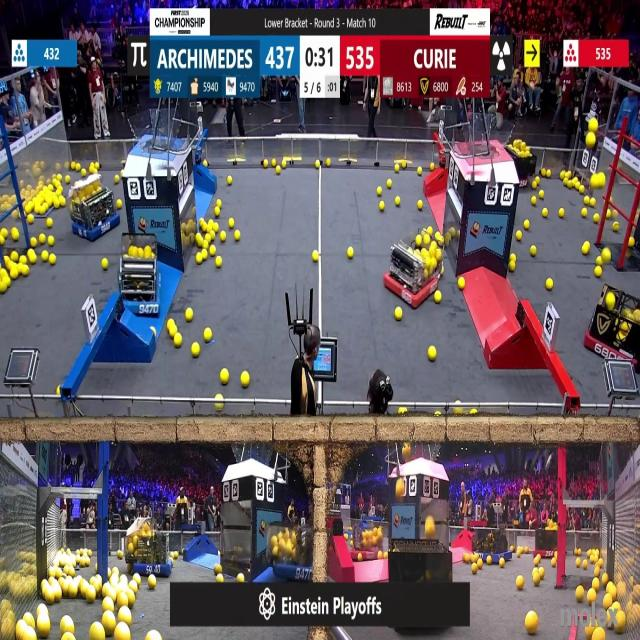ball_airborne: (396, 480, 404, 498), (596, 173, 605, 188), (605, 293, 614, 308), (401, 446, 410, 460), (588, 133, 596, 148), (590, 118, 598, 131)
ball_ground: (37, 618, 50, 640), (526, 614, 538, 636), (103, 614, 115, 634), (616, 615, 627, 635), (91, 625, 105, 640), (62, 618, 74, 634), (425, 519, 434, 537), (120, 611, 130, 626), (241, 373, 250, 388), (575, 588, 584, 603), (602, 248, 610, 264), (191, 343, 199, 358), (428, 346, 436, 361), (220, 370, 228, 385), (103, 599, 113, 611), (594, 630, 606, 640), (88, 590, 97, 603), (517, 575, 525, 589), (588, 590, 596, 604), (119, 629, 129, 640), (148, 575, 156, 588), (603, 596, 611, 609), (55, 590, 63, 603), (205, 328, 212, 342), (129, 593, 136, 607), (28, 252, 36, 264), (532, 573, 540, 585), (185, 309, 192, 322), (395, 308, 402, 321), (169, 325, 177, 336), (18, 252, 26, 263), (600, 573, 608, 584), (434, 290, 441, 302), (458, 278, 465, 290), (174, 336, 181, 348), (583, 243, 590, 255), (11, 230, 18, 242), (23, 266, 30, 278), (606, 584, 613, 596), (10, 251, 18, 261), (212, 221, 220, 231), (146, 632, 156, 640), (195, 234, 201, 247), (0, 280, 6, 293), (545, 279, 552, 290), (10, 269, 17, 280), (593, 577, 600, 588), (313, 250, 319, 262), (102, 260, 108, 272), (474, 563, 480, 575), (202, 220, 208, 232), (48, 254, 55, 264), (30, 238, 37, 248), (209, 246, 216, 256), (463, 554, 470, 564), (41, 251, 48, 261), (596, 255, 603, 265), (507, 264, 514, 274), (39, 236, 46, 246), (215, 564, 222, 574), (1, 229, 8, 239), (216, 256, 222, 267), (596, 267, 602, 278), (538, 567, 544, 578), (238, 573, 245, 582), (611, 222, 618, 231), (348, 248, 354, 258), (530, 246, 536, 256), (380, 202, 386, 212), (48, 236, 54, 246), (220, 232, 226, 242), (195, 253, 201, 263), (517, 232, 523, 242), (541, 208, 547, 218), (227, 218, 233, 228), (214, 207, 220, 217), (384, 182, 390, 192), (135, 574, 141, 584), (534, 556, 540, 566), (202, 250, 208, 260), (4, 254, 10, 264), (60, 198, 66, 208), (594, 566, 600, 576), (64, 634, 74, 640), (216, 574, 223, 582), (215, 393, 222, 401), (203, 240, 210, 248), (115, 201, 122, 209), (236, 231, 241, 242), (524, 220, 530, 229), (629, 239, 635, 248), (28, 214, 34, 223), (499, 559, 505, 568), (583, 208, 589, 217), (578, 184, 584, 193), (606, 210, 612, 219), (264, 161, 270, 170), (590, 199, 596, 208), (427, 225, 433, 234), (210, 233, 216, 242), (46, 218, 51, 228), (451, 229, 456, 239), (215, 402, 222, 409), (594, 214, 600, 222), (226, 176, 232, 184), (531, 198, 537, 206), (538, 190, 544, 198), (276, 167, 282, 175), (315, 162, 321, 170), (357, 554, 363, 562), (532, 181, 538, 189), (130, 584, 136, 592), (430, 164, 436, 172), (326, 160, 332, 168), (560, 171, 566, 179), (0, 269, 6, 277), (400, 162, 406, 170), (566, 172, 572, 180), (418, 201, 423, 210), (559, 209, 564, 218), (395, 198, 400, 207), (585, 198, 590, 207), (0, 237, 5, 246), (584, 560, 589, 569), (394, 166, 400, 173), (511, 253, 517, 260), (204, 162, 210, 169), (172, 553, 178, 560), (418, 168, 423, 176), (545, 170, 550, 178), (552, 559, 557, 567), (379, 552, 384, 560), (216, 200, 221, 208), (564, 178, 569, 186), (272, 161, 277, 169), (282, 162, 287, 170), (108, 568, 112, 578), (96, 163, 101, 171), (81, 169, 86, 177), (378, 186, 382, 195), (576, 559, 580, 568), (488, 557, 492, 566), (114, 176, 119, 183), (66, 176, 71, 183), (517, 551, 522, 558), (120, 553, 125, 560), (535, 176, 539, 183), (384, 553, 388, 560), (119, 170, 123, 177), (435, 413, 440, 418)
goal: (460, 117, 518, 158), (129, 115, 186, 152)
robot_blue: (70, 179, 120, 243), (117, 245, 162, 316), (268, 523, 314, 580), (127, 522, 171, 577), (476, 528, 511, 565)
robot_red: (388, 234, 443, 308), (585, 293, 638, 360), (501, 139, 540, 185), (348, 517, 384, 559), (532, 520, 559, 556)
